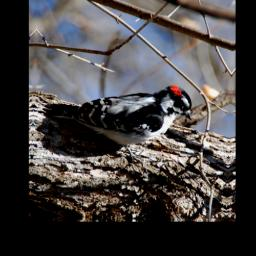Woodpecker: (41, 78, 197, 150)
